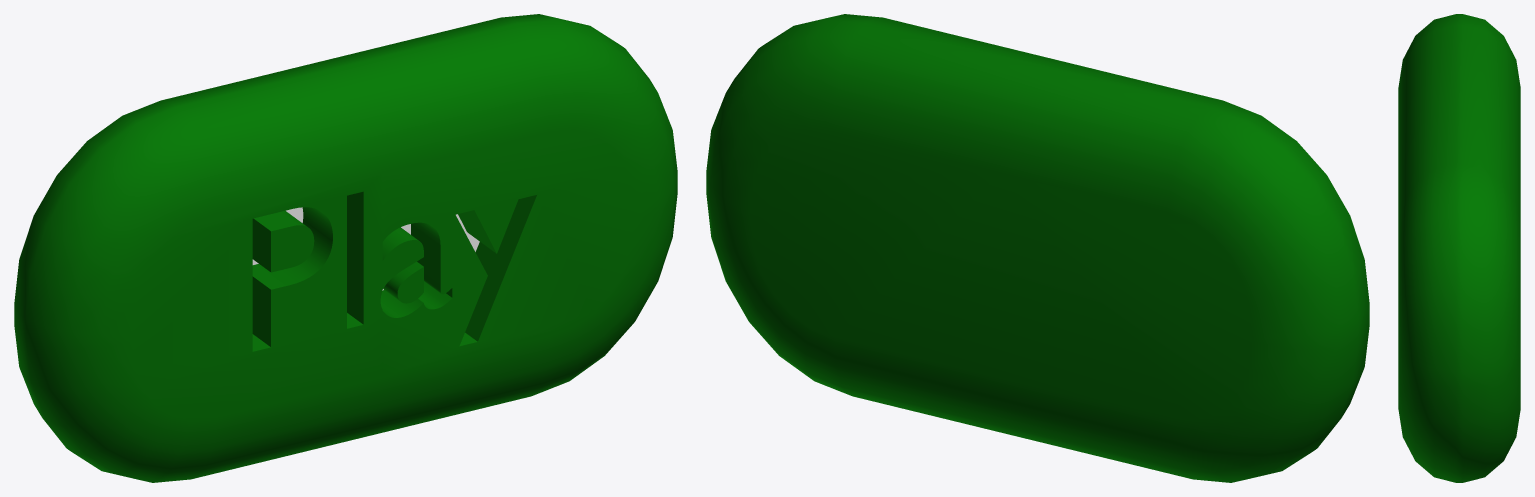
Rendered from play_button.gltf.
3 renders of one model, left to right at view 1: azimuth 30°, elevation 25°; view 2: azimuth 150°, elevation 25°; view 3: azimuth 270°, elevation 25°, orthographic. The views are drawn at different scales.
Parts seen in each view (by area): view 1: play_button; view 2: play_button; view 3: play_button.
Part boxes in pixels (bbox=[...]): play_button: bbox=[14, 14, 677, 482]; play_button: bbox=[706, 14, 1369, 482]; play_button: bbox=[1398, 14, 1520, 482].
Bounding box in the file's own units: 11.68 × 6.4 × 2.31.
